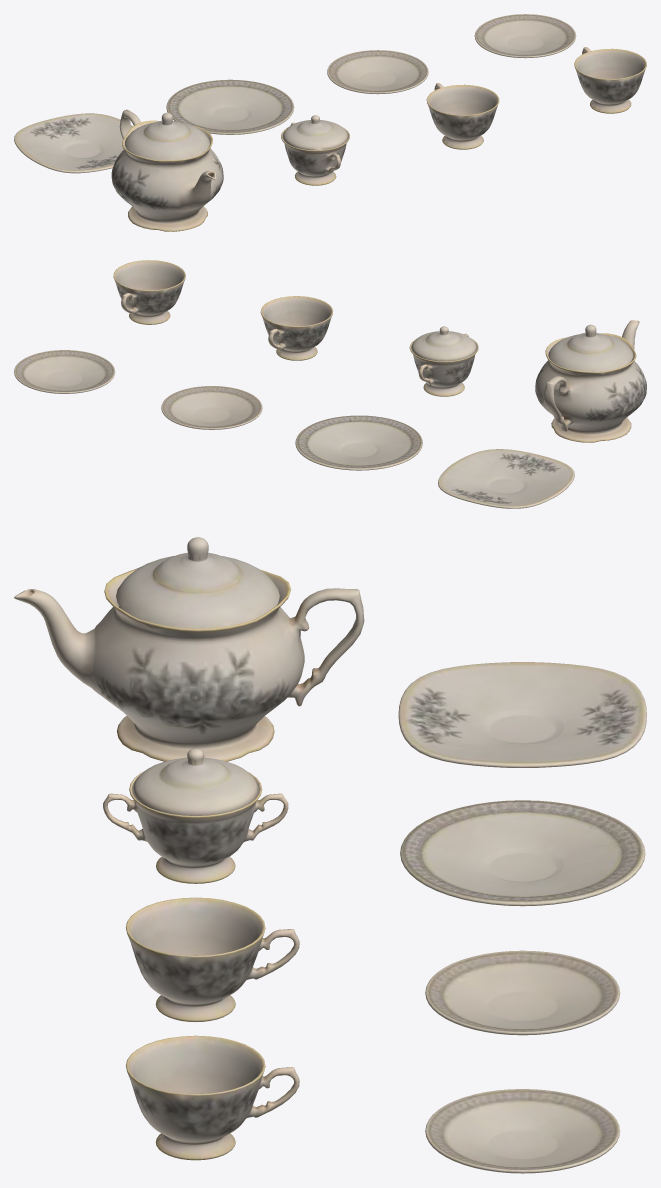
File: tea_set_01.glb
The picture shows the model from 3 angles, top to bottom: view 1: azimuth 30°, elevation 25°; view 2: azimuth 150°, elevation 25°; view 3: azimuth 270°, elevation 25°; orthographic projection. The views are drawn at different scales.
Visible parts, largest first — view 1: tea_set_01_teapot_01, tea_set_01_plate_large_circular_03, tea_set_01_plate_large_square_01, tea_set_01_cup_small_01, tea_set_01_cup_small_02, tea_set_01_saucer_circular_03, tea_set_01_saucer_circular_04, tea_set_01_teapot_01_lid, tea_set_01_sugar_cup_01, tea_set_01_sugar_cup_01_lid; view 2: tea_set_01_teapot_01, tea_set_01_plate_large_square_01, tea_set_01_plate_large_circular_03, tea_set_01_cup_small_01, tea_set_01_cup_small_02, tea_set_01_saucer_circular_04, tea_set_01_saucer_circular_03, tea_set_01_teapot_01_lid, tea_set_01_sugar_cup_01, tea_set_01_sugar_cup_01_lid; view 3: tea_set_01_teapot_01, tea_set_01_plate_large_square_01, tea_set_01_plate_large_circular_03, tea_set_01_cup_small_01, tea_set_01_cup_small_02, tea_set_01_saucer_circular_03, tea_set_01_saucer_circular_04, tea_set_01_teapot_01_lid, tea_set_01_sugar_cup_01, tea_set_01_sugar_cup_01_lid.
Part boxes in pixels (box(x1,y1,x2,y2)): tea_set_01_teapot_01: box(111, 109, 223, 231); tea_set_01_plate_large_circular_03: box(166, 79, 294, 134); tea_set_01_plate_large_square_01: box(14, 113, 133, 173); tea_set_01_cup_small_01: box(426, 83, 499, 149); tea_set_01_cup_small_02: box(574, 47, 646, 113); tea_set_01_saucer_circular_03: box(474, 14, 576, 58); tea_set_01_saucer_circular_04: box(327, 50, 428, 94); tea_set_01_teapot_01_lid: box(125, 112, 209, 160); tea_set_01_sugar_cup_01: box(281, 122, 349, 185); tea_set_01_sugar_cup_01_lid: box(282, 115, 348, 150); tea_set_01_teapot_01: box(535, 320, 646, 442); tea_set_01_plate_large_square_01: box(438, 449, 574, 508); tea_set_01_plate_large_circular_03: box(295, 415, 422, 470); tea_set_01_cup_small_01: box(260, 296, 332, 360); tea_set_01_cup_small_02: box(113, 260, 185, 324); tea_set_01_saucer_circular_04: box(161, 386, 262, 429); tea_set_01_saucer_circular_03: box(14, 350, 115, 393); tea_set_01_teapot_01_lid: box(548, 324, 633, 371); tea_set_01_sugar_cup_01: box(409, 333, 478, 396); tea_set_01_sugar_cup_01_lid: box(411, 326, 477, 361); tea_set_01_teapot_01: box(14, 568, 364, 761); tea_set_01_plate_large_square_01: box(398, 662, 646, 767); tea_set_01_plate_large_circular_03: box(400, 800, 645, 906); tea_set_01_cup_small_01: box(126, 897, 299, 1022); tea_set_01_cup_small_02: box(126, 1035, 299, 1160); tea_set_01_saucer_circular_03: box(425, 1089, 620, 1173); tea_set_01_saucer_circular_04: box(425, 950, 620, 1035); tea_set_01_teapot_01_lid: box(116, 537, 279, 628); tea_set_01_sugar_cup_01: box(103, 771, 288, 883); tea_set_01_sugar_cup_01_lid: box(131, 748, 259, 816).
Bounding box in the file's own units: 0.9185 × 0.165 × 0.4839.
1 material, 1 textured.
